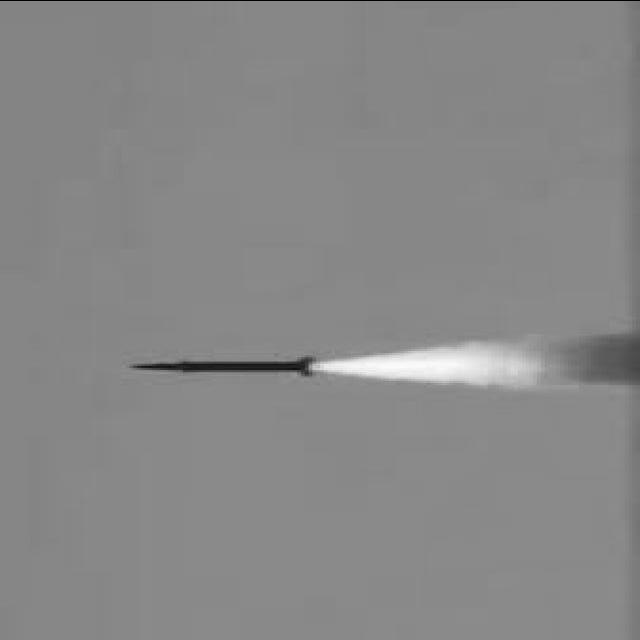missile: (130, 353, 323, 374)
